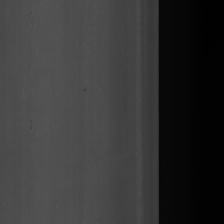inclusion: (27, 115, 34, 133), (82, 82, 86, 96)
